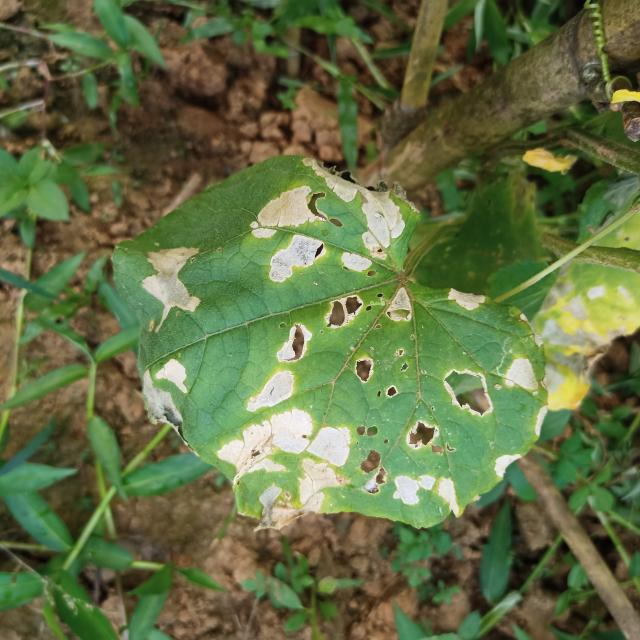disease_cucumber: (131, 159, 537, 519)
